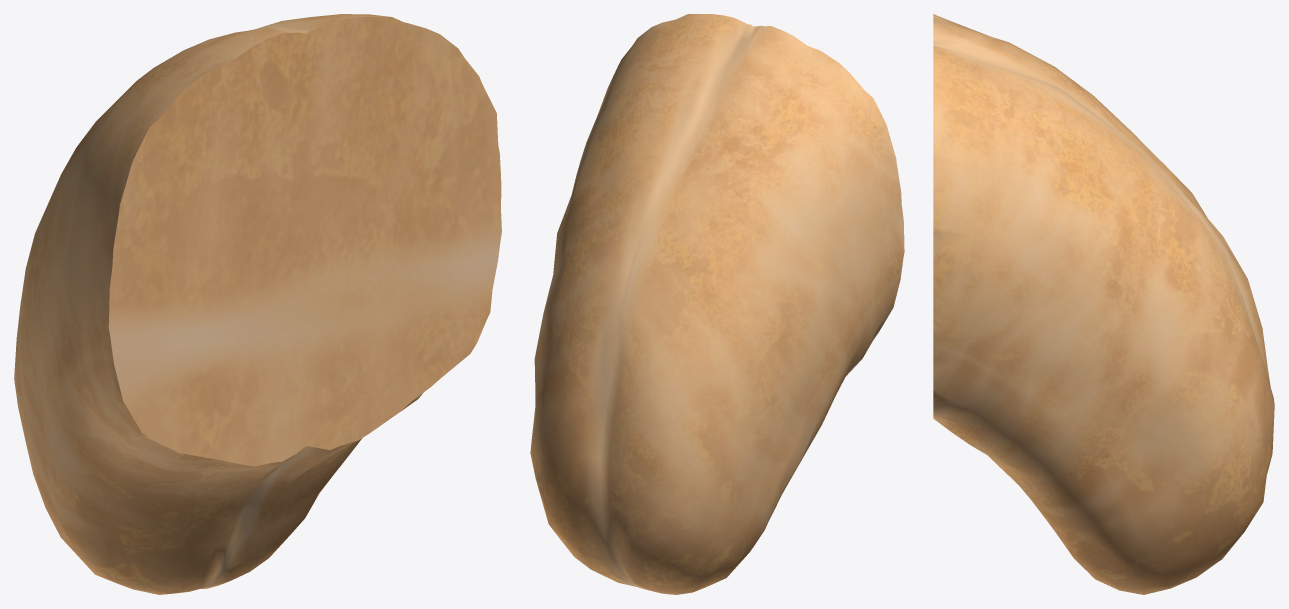
File: cashews.glb
3 views of the same model, side by side, from view 1: azimuth 30°, elevation 25°; view 2: azimuth 150°, elevation 25°; view 3: azimuth 270°, elevation 25° (orthographic). The views are drawn at different scales.
Parts seen in each view (by area): view 1: Mesh_Cashew_0; view 2: Mesh_Cashew_0; view 3: Mesh_Cashew_0.
Boxes of the visible parts, left/top/right/bottom form: Mesh_Cashew_0: left=14, top=14, right=501, bottom=594; Mesh_Cashew_0: left=530, top=14, right=904, bottom=594; Mesh_Cashew_0: left=933, top=14, right=1274, bottom=594.
Size of the model in its own units: 0.3803 by 0.5979 by 0.3404.
1 material, 1 textured.
